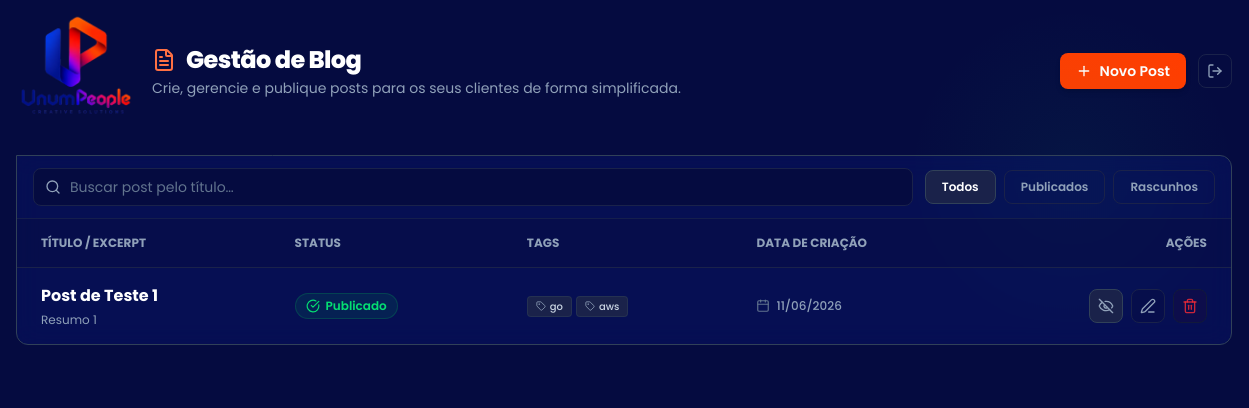
Scenario: PostsPage › mostra o erro na tela quando despublicar falha
The width and height of the screenshot is (1249, 408).
Expected: the link "Post de Teste 1" is shown, [41, 284, 158, 307]
Click the button titled "Mudar para Rascunho" at (1106, 306), box [1089, 289, 1123, 323]
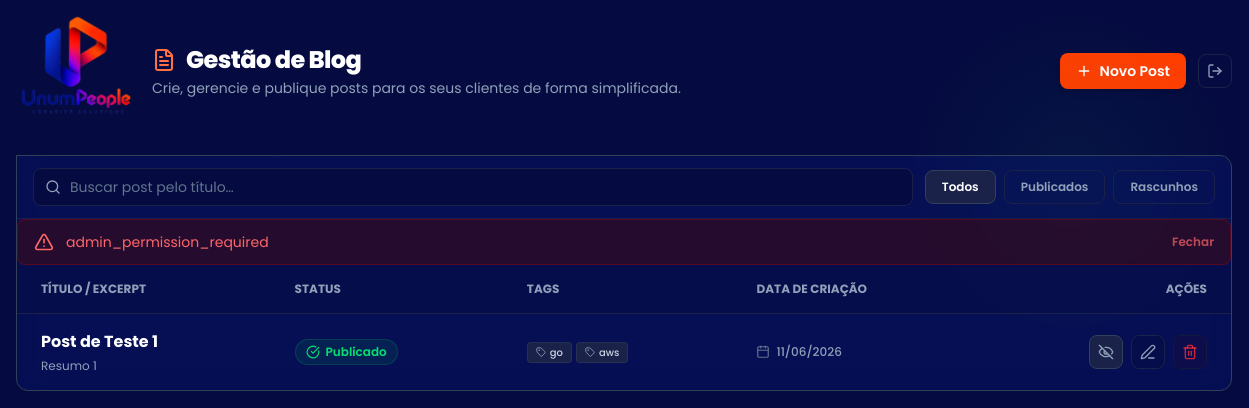
Expected: the message shows "admin_permission_required", [66, 232, 269, 252]
